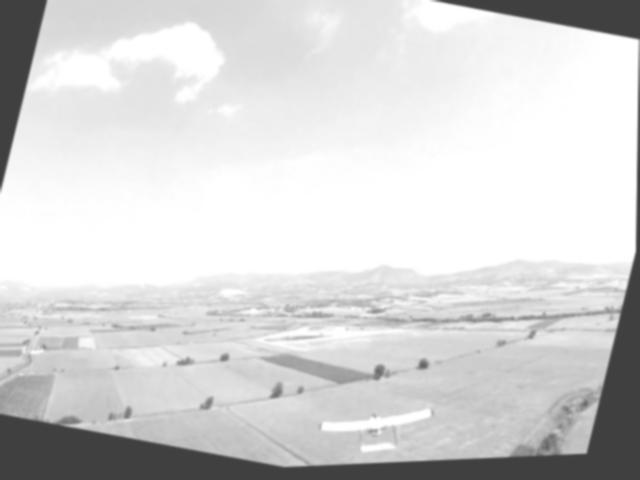hedef: (307, 379, 444, 469)
